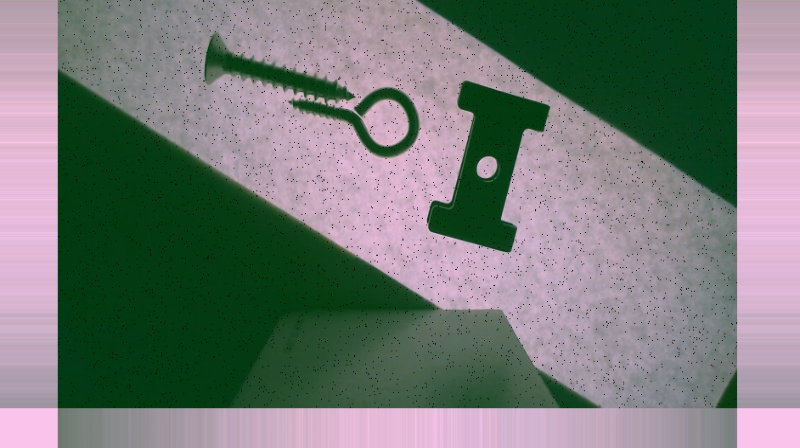O001: (287, 86, 422, 157)
O002: (426, 78, 551, 256)
S001: (201, 33, 356, 102)
